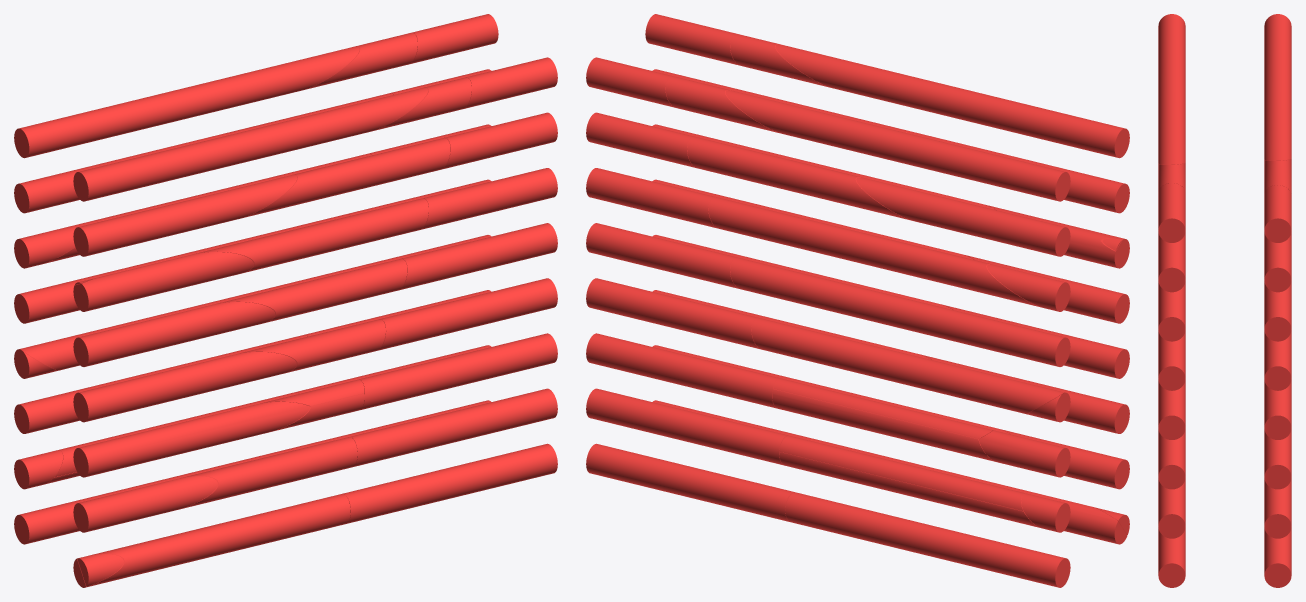
The model's file is lazer-kule2.fbx.
3 views of the same model, side by side, from view 1: azimuth 30°, elevation 25°; view 2: azimuth 150°, elevation 25°; view 3: azimuth 270°, elevation 25° (orthographic). The views are drawn at different scales.
Visible parts, largest first — view 1: Cylinder.023_cell.026, Cylinder.023_cell.002, Cylinder.023_cell.048, Cylinder.023_cell.031, Cylinder.023_cell.030, Cylinder.023_cell.021, Cylinder.023_cell.027, Cylinder.023_cell.020, Cylinder.023_cell.019, Cylinder.023_cell.036, Cylinder.023_cell.029, Cylinder.023_cell.018 (+27 smaller); view 2: Cylinder.023_cell.004, Cylinder.023_cell.026, Cylinder.023_cell.002, Cylinder.023_cell.042, Cylinder.023_cell.044, Cylinder.023_cell.006, Cylinder.023_cell.013, Cylinder.023_cell.024, Cylinder.023_cell.012, Cylinder.023_cell.011, Cylinder.023_cell.043, Cylinder.023_cell.010 (+24 smaller); view 3: Cylinder.023_cell.026, Cylinder.023_cell.002, Cylinder.023_cell.014, Cylinder.023_cell, Cylinder.023_cell.013, Cylinder.023_cell.021, Cylinder.023_cell.009, Cylinder.023_cell.017, Cylinder.023_cell.011, Cylinder.023_cell.012, Cylinder.023_cell.019, Cylinder.023_cell.020 (+8 smaller).
Boxes of the visible parts, bbox=[...] form: Cylinder.023_cell.026: bbox=[73, 88, 428, 201]; Cylinder.023_cell.002: bbox=[14, 46, 359, 158]; Cylinder.023_cell.048: bbox=[73, 493, 350, 587]; Cylinder.023_cell.031: bbox=[73, 401, 310, 477]; Cylinder.023_cell.030: bbox=[73, 352, 296, 422]; Cylinder.023_cell.021: bbox=[343, 443, 557, 523]; Cylinder.023_cell.027: bbox=[73, 175, 297, 256]; Cylinder.023_cell.020: bbox=[350, 388, 557, 466]; Cylinder.023_cell.019: bbox=[358, 333, 557, 409]; Cylinder.023_cell.036: bbox=[196, 198, 428, 272]; Cylinder.023_cell.029: bbox=[73, 302, 275, 366]; Cylinder.023_cell.018: bbox=[377, 278, 557, 350]; Cylinder.023_cell.004: bbox=[730, 257, 1070, 366]; Cylinder.023_cell.026: bbox=[775, 44, 1129, 158]; Cylinder.023_cell.002: bbox=[725, 90, 1070, 201]; Cylinder.023_cell.042: bbox=[708, 197, 1041, 307]; Cylinder.023_cell.044: bbox=[751, 318, 1063, 413]; Cylinder.023_cell.006: bbox=[785, 492, 1070, 587]; Cylinder.023_cell.013: bbox=[586, 443, 794, 521]; Cylinder.023_cell.024: bbox=[856, 177, 1070, 256]; Cylinder.023_cell.012: bbox=[586, 388, 788, 465]; Cylinder.023_cell.011: bbox=[586, 333, 779, 408]; Cylinder.023_cell.043: bbox=[687, 136, 911, 220]; Cylinder.023_cell.010: bbox=[586, 278, 760, 349]; Cylinder.023_cell.026: bbox=[1158, 14, 1185, 164]; Cylinder.023_cell.002: bbox=[1264, 14, 1291, 160]; Cylinder.023_cell.014: bbox=[1158, 183, 1185, 242]; Cylinder.023_cell: bbox=[1264, 185, 1291, 242]; Cylinder.023_cell.013: bbox=[1264, 527, 1291, 587]; Cylinder.023_cell.021: bbox=[1158, 527, 1185, 587]; Cylinder.023_cell.009: bbox=[1264, 330, 1291, 390]; Cylinder.023_cell.017: bbox=[1158, 330, 1185, 390]; Cylinder.023_cell.011: bbox=[1264, 429, 1291, 489]; Cylinder.023_cell.012: bbox=[1264, 478, 1291, 538]; Cylinder.023_cell.019: bbox=[1158, 429, 1185, 489]; Cylinder.023_cell.020: bbox=[1158, 478, 1185, 538].
Bounding box in the file's own units: 486 × 410 × 134.
